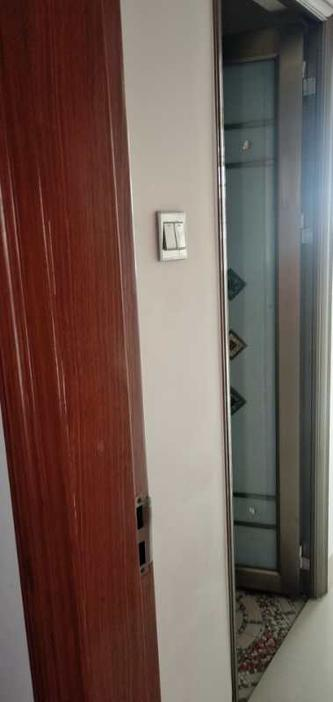switch: (176, 217, 193, 255), (160, 216, 176, 256)
